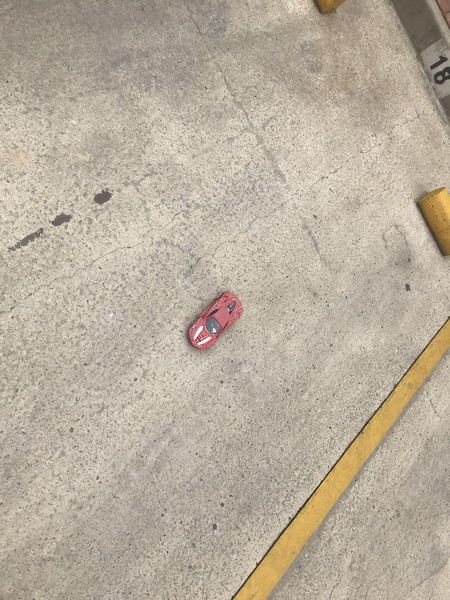RC: (186, 290, 244, 352)
